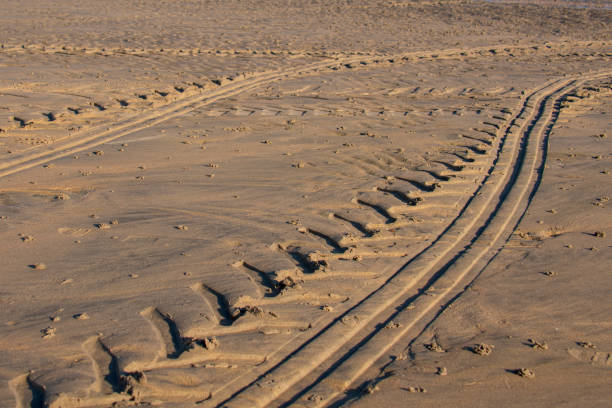vehicle_track: (215, 73, 609, 406), (0, 45, 537, 177)
